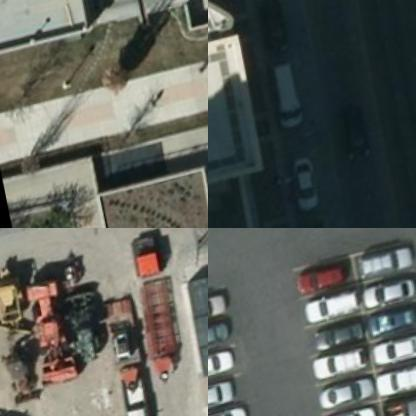car: (333, 98, 383, 173), (263, 60, 304, 132), (286, 260, 352, 300), (306, 346, 372, 386), (353, 246, 415, 288), (300, 319, 365, 359), (295, 291, 360, 331), (311, 376, 377, 415), (360, 274, 415, 316), (364, 303, 415, 344), (288, 152, 322, 212), (253, 0, 289, 56), (369, 332, 415, 373), (113, 375, 159, 415), (375, 358, 415, 402), (208, 342, 243, 383), (208, 314, 239, 355), (208, 289, 234, 330), (208, 377, 236, 415), (379, 390, 415, 415), (315, 406, 381, 415)
